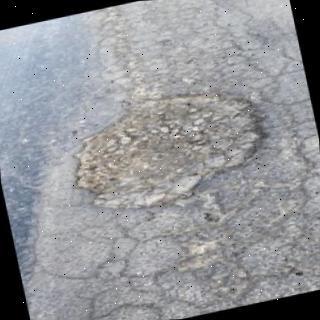pothole: (77, 93, 264, 210)
